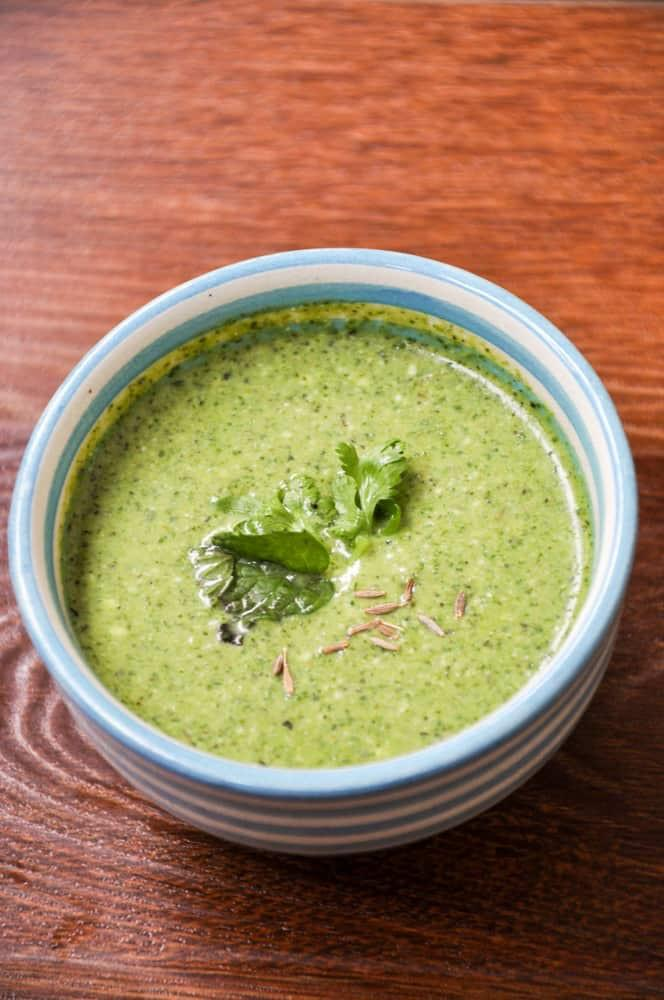GreenChutney: (64, 323, 587, 770)
